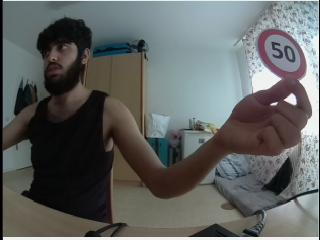Speedlimit_50: (256, 28, 306, 78)
